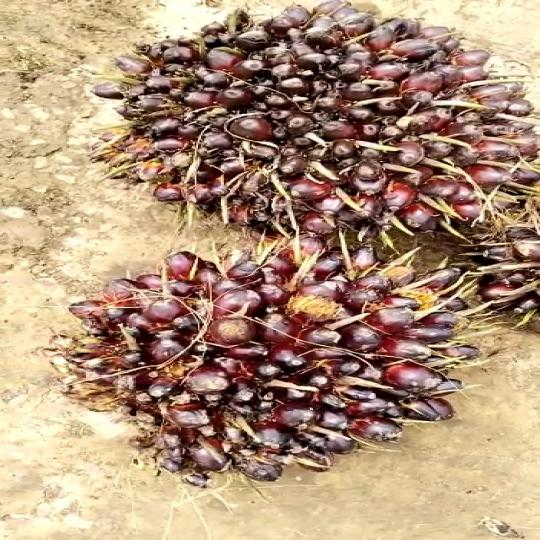mentah: (111, 0, 534, 248), (75, 242, 485, 487)
